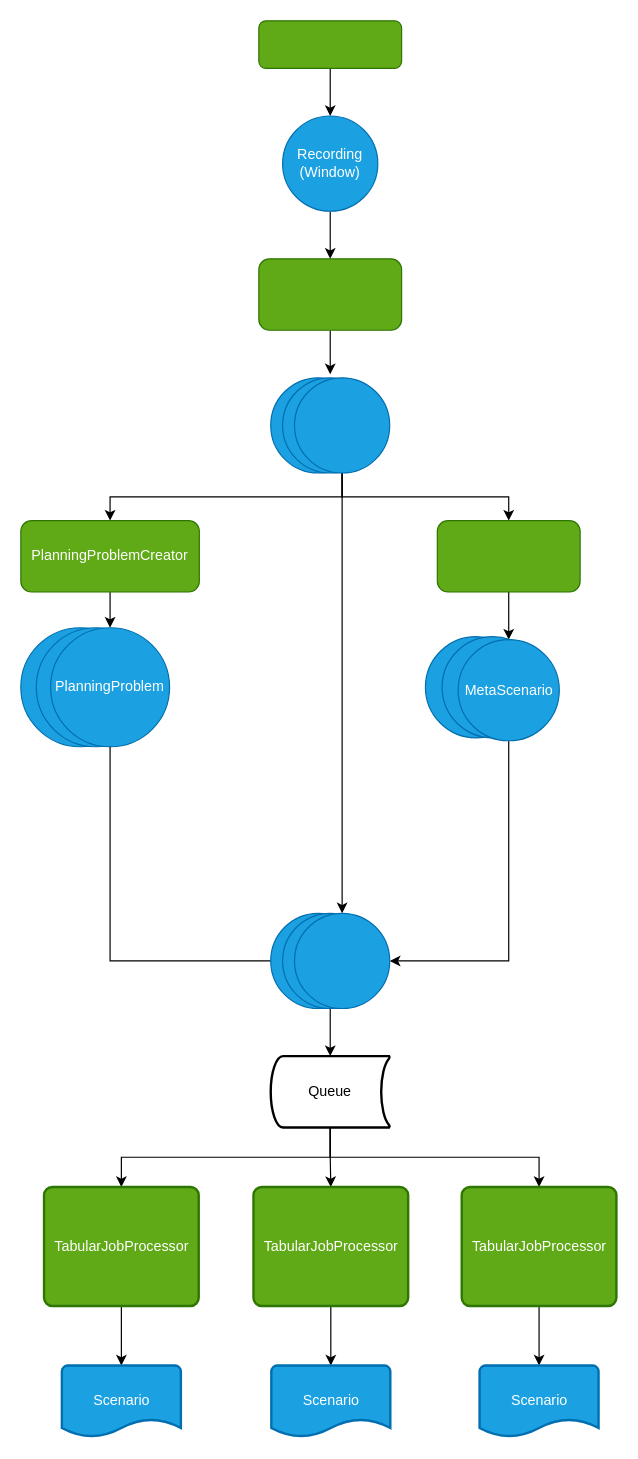
The diagram is 638 pixels wide and 1459 high, and some of its shapes have lost their labels. The shapes that lost their labels are listed below. From the top down, each one's centre as x and y in pixels, then its label:
At (x=330, y=44): "RecordingGenerator".
At (x=330, y=294): "WindowGenerator".
At (x=341, y=425): "Window".
At (x=508, y=555): "MetaScenarioCreator".
At (x=341, y=960): "TabularJob".
